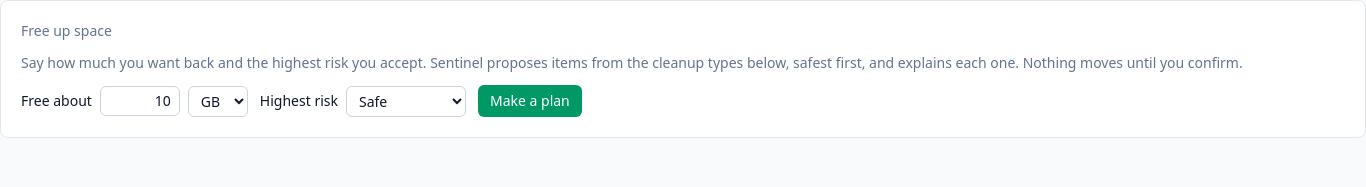
Test: RecoveryPlanPanel › will not ask for nothing, and shows a refusal
Replace the text in the field named "Amount" with "0" at (140, 101), box [100,86,180,116]
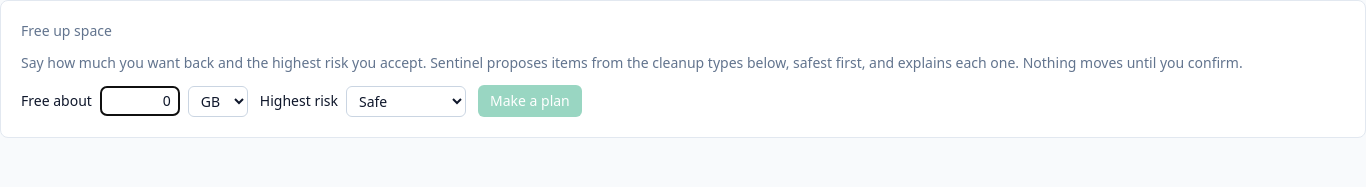
Check: the button "Make a plan" is disabled, box [478,85,582,117]
Replace the text in the field named "Amount" with "5" at (140, 101), box [100,86,180,116]
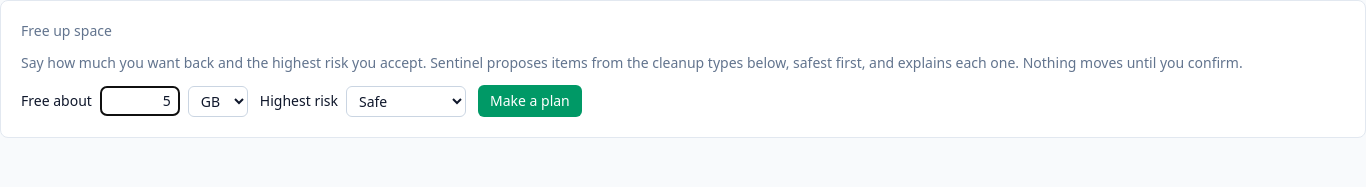
Click the button "Make a plan" at (530, 101), box [478,85,582,117]
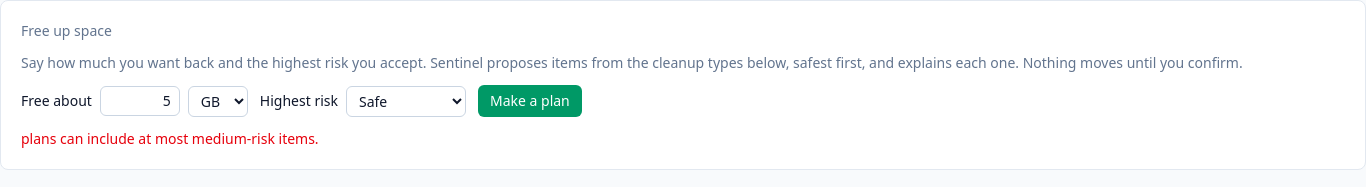
Check: the message shows "at most medium-risk", box [21,129,319,148]
